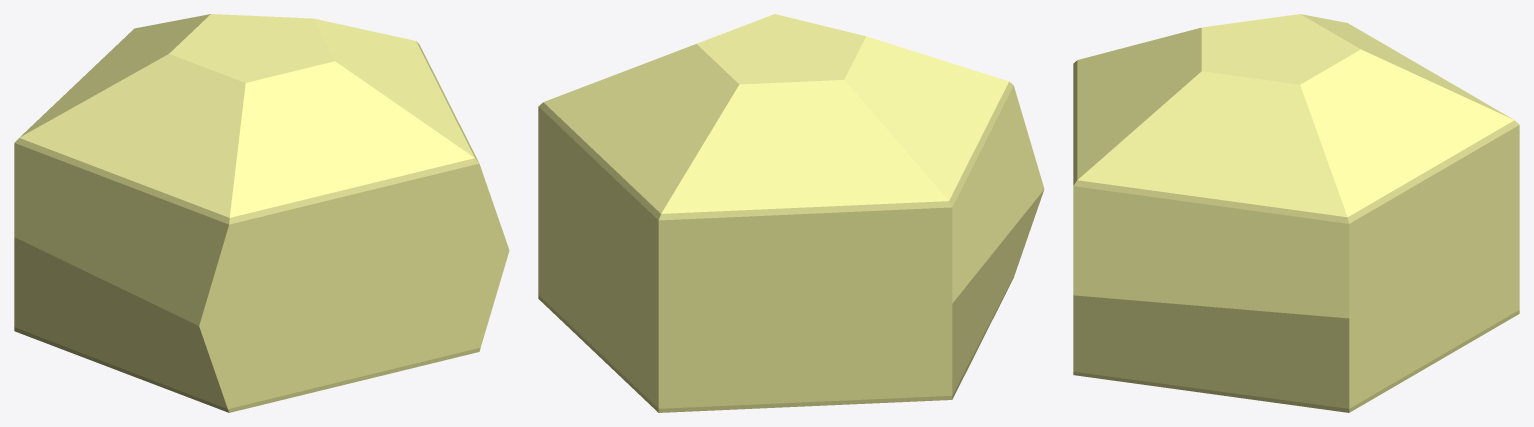
Rendered from nuts_soldier_core.fbx.
The picture shows the model from 3 angles, left to right: view 1: azimuth 30°, elevation 25°; view 2: azimuth 150°, elevation 25°; view 3: azimuth 270°, elevation 25°; orthographic projection. The views are drawn at different scales.
Visible parts, largest first — view 1: Mesh; view 2: Mesh; view 3: Mesh.
Part boxes in pixels (box(x1,y1,x2,y2)): Mesh: box(14, 14, 509, 412); Mesh: box(538, 14, 1044, 412); Mesh: box(1073, 14, 1519, 412).
Bounding box in the file's own units: 0.6485 × 0.4447 × 0.6168.
